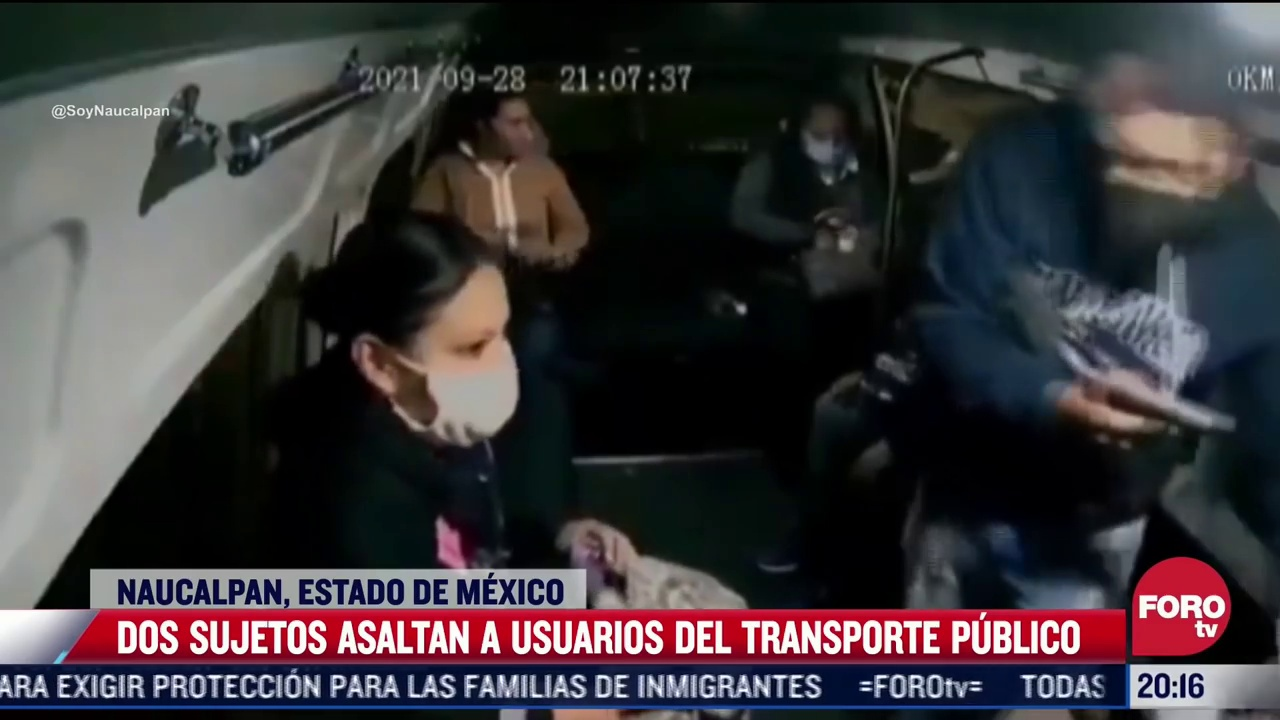pistol: (1103, 380, 1243, 442)
